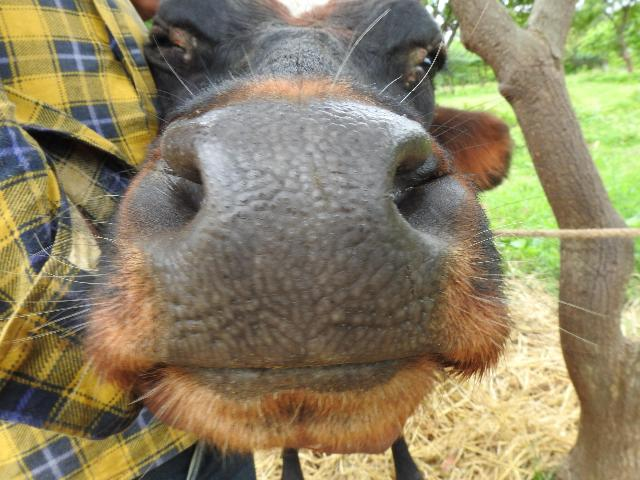Muzzle: (190, 128, 414, 354)
